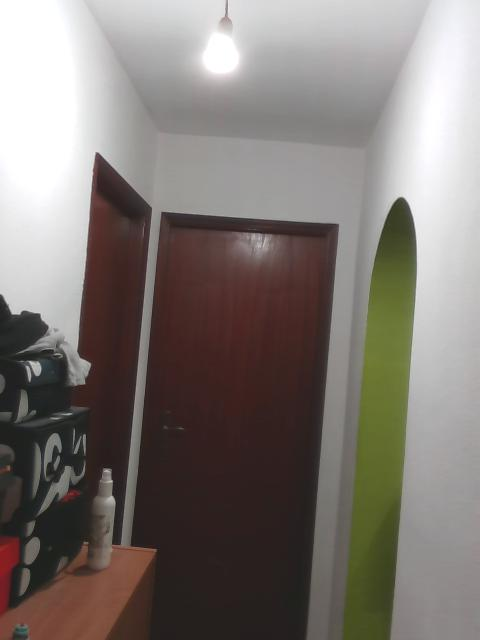closed_door: (131, 212, 338, 638)
